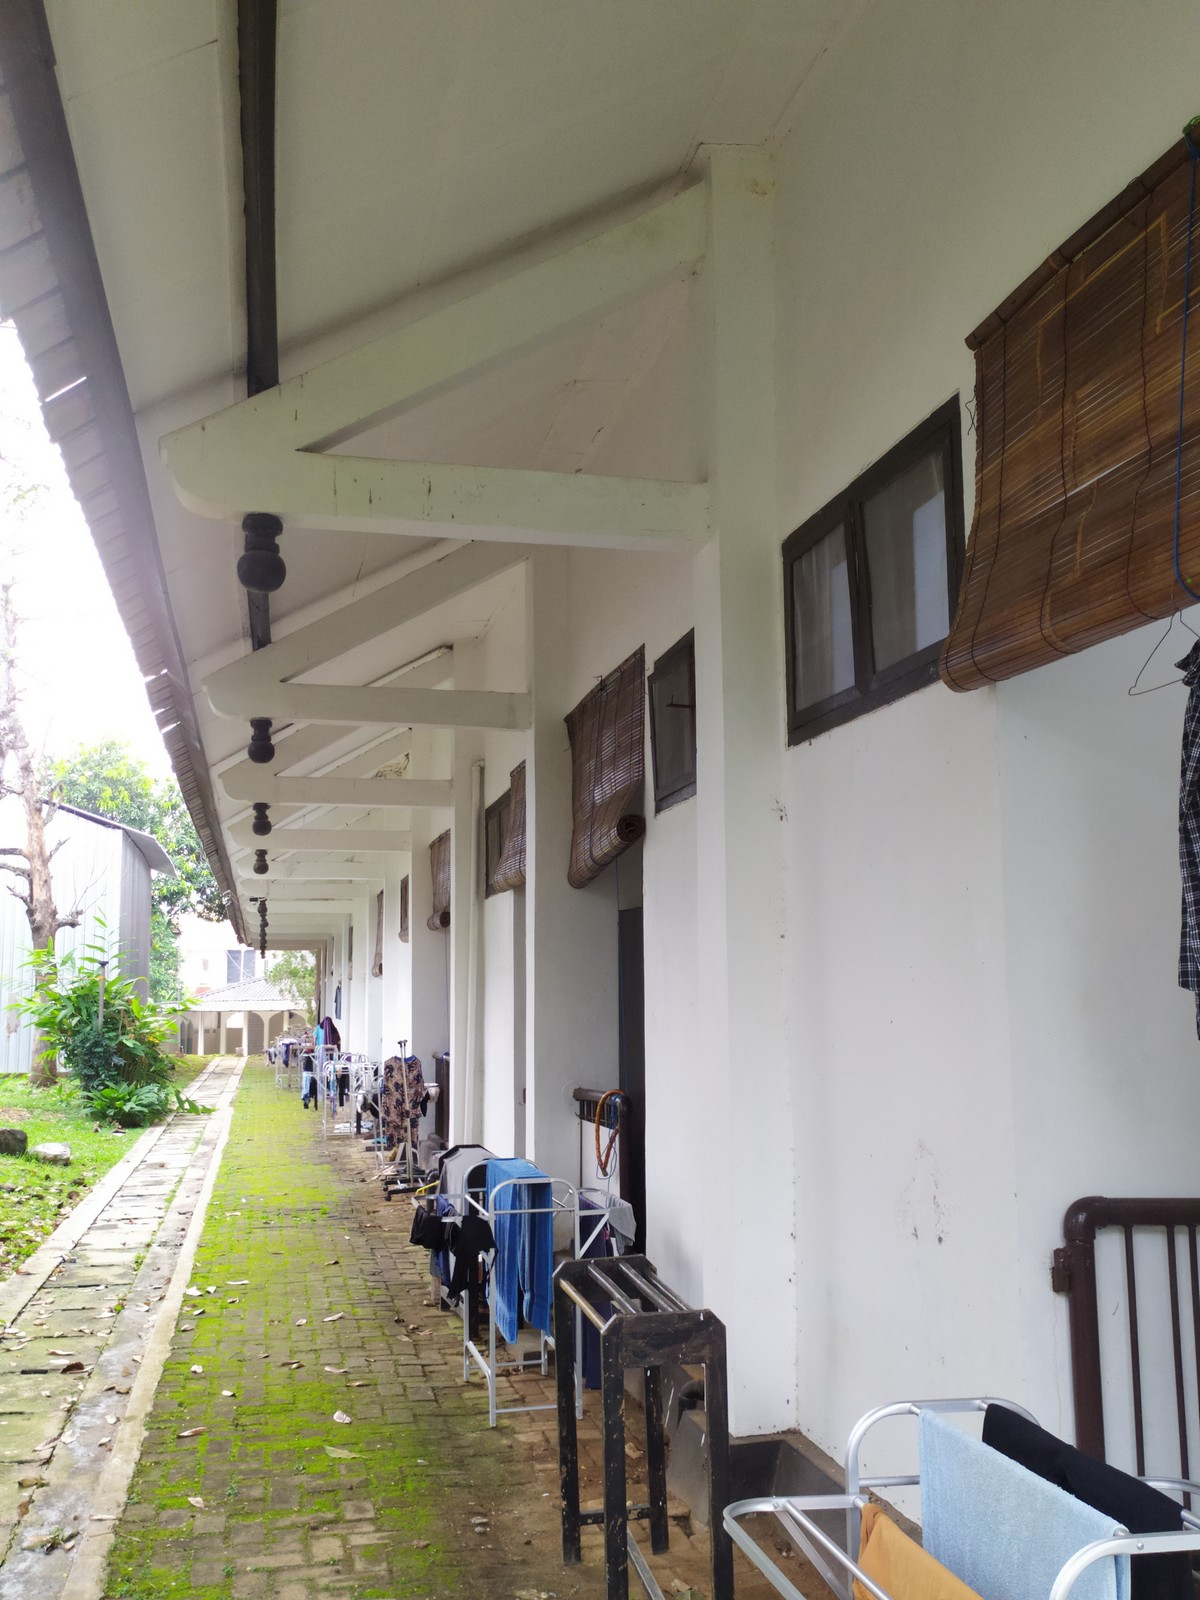concrete beam: (294, 451, 734, 574), (289, 677, 545, 743), (275, 770, 470, 819)
concrete column: (676, 134, 808, 1500), (517, 548, 637, 1230), (444, 712, 494, 1158), (405, 800, 449, 1129)
